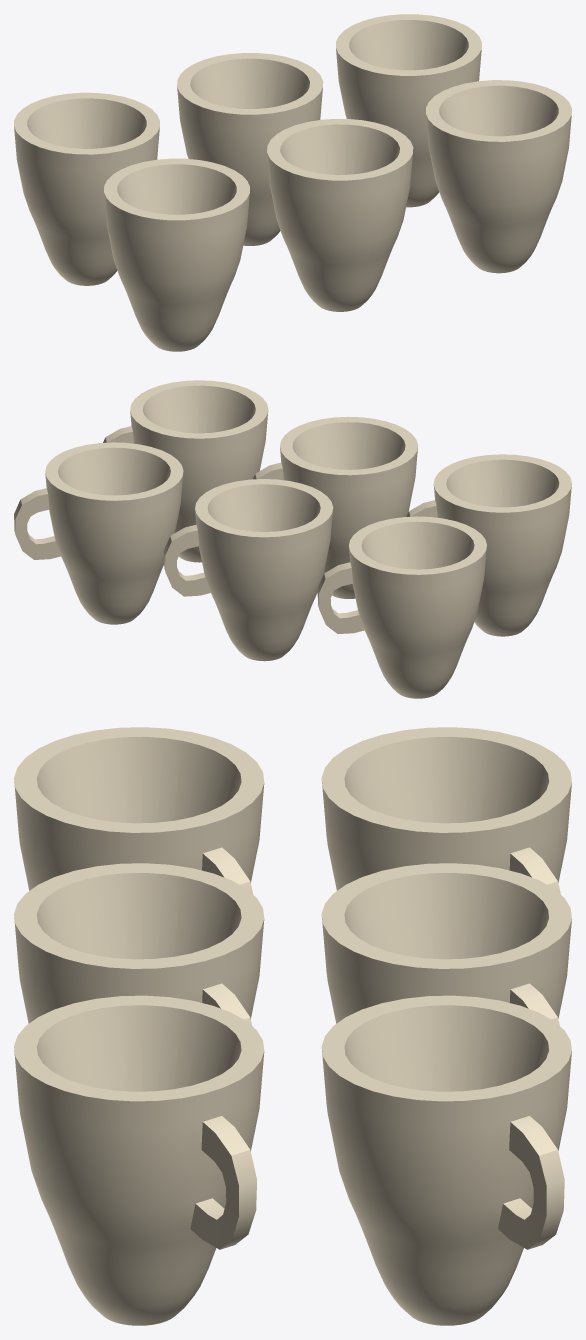
The model's file is 10ozYuva.fbx.
3 renders of one model, top to bottom at view 1: azimuth 30°, elevation 25°; view 2: azimuth 150°, elevation 25°; view 3: azimuth 270°, elevation 25°, orthographic. The views are drawn at different scales.
Parts seen in each view (by area): view 1: 10ozYuva.002; view 2: 10ozYuva.002; view 3: 10ozYuva.002.
Part boxes in pixels (bbox=[...]): 10ozYuva.002: bbox=[14, 14, 571, 351]; 10ozYuva.002: bbox=[14, 380, 571, 698]; 10ozYuva.002: bbox=[14, 727, 571, 1325].
Size of the model in its own units: 109 by 34.32 by 66.62.
